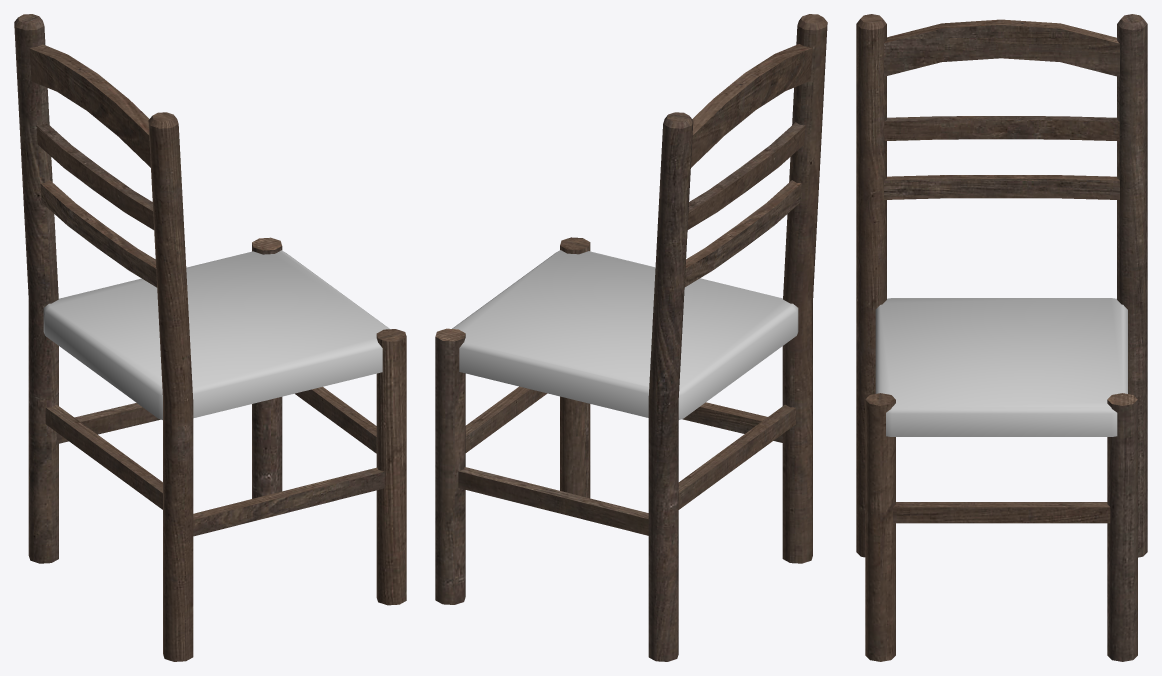
File: mw_chair_02.FBX
The picture shows the model from 3 angles, left to right: view 1: azimuth 30°, elevation 25°; view 2: azimuth 150°, elevation 25°; view 3: azimuth 270°, elevation 25°; orthographic projection. The views are drawn at different scales.
Visible parts, largest first — view 1: mw_chair_02; view 2: mw_chair_02; view 3: mw_chair_02.
Part boxes in pixels (box(x1,y1,x2,y2)): mw_chair_02: box(14, 14, 406, 661); mw_chair_02: box(435, 14, 827, 661); mw_chair_02: box(856, 14, 1147, 661).
Bounding box in the file's own units: 66.04 × 132 × 65.98.
